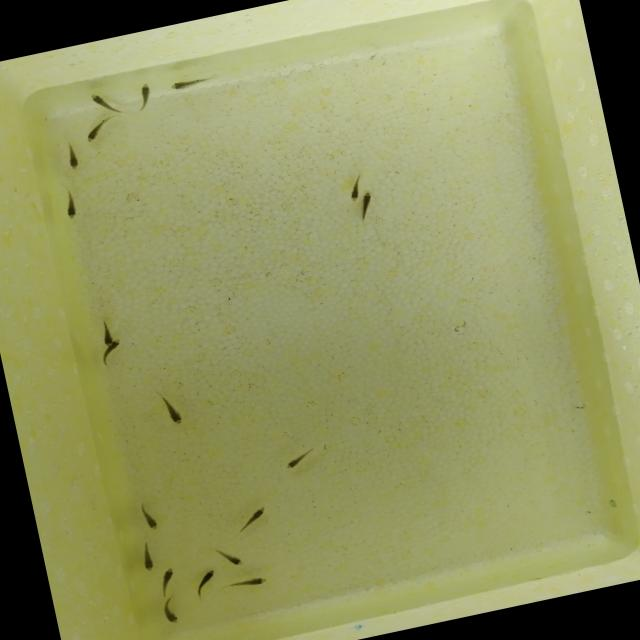fingerling: (152, 596, 189, 632), (237, 497, 279, 528), (228, 572, 276, 592), (218, 545, 252, 572), (134, 502, 162, 532), (192, 562, 222, 590), (96, 333, 128, 358), (162, 396, 187, 428), (86, 86, 115, 112), (282, 446, 312, 471), (154, 563, 178, 594), (340, 178, 367, 205), (58, 194, 84, 222), (166, 74, 199, 94), (136, 542, 156, 572), (82, 122, 106, 146), (63, 144, 84, 170), (95, 320, 114, 346), (136, 77, 154, 104), (356, 188, 380, 208)
